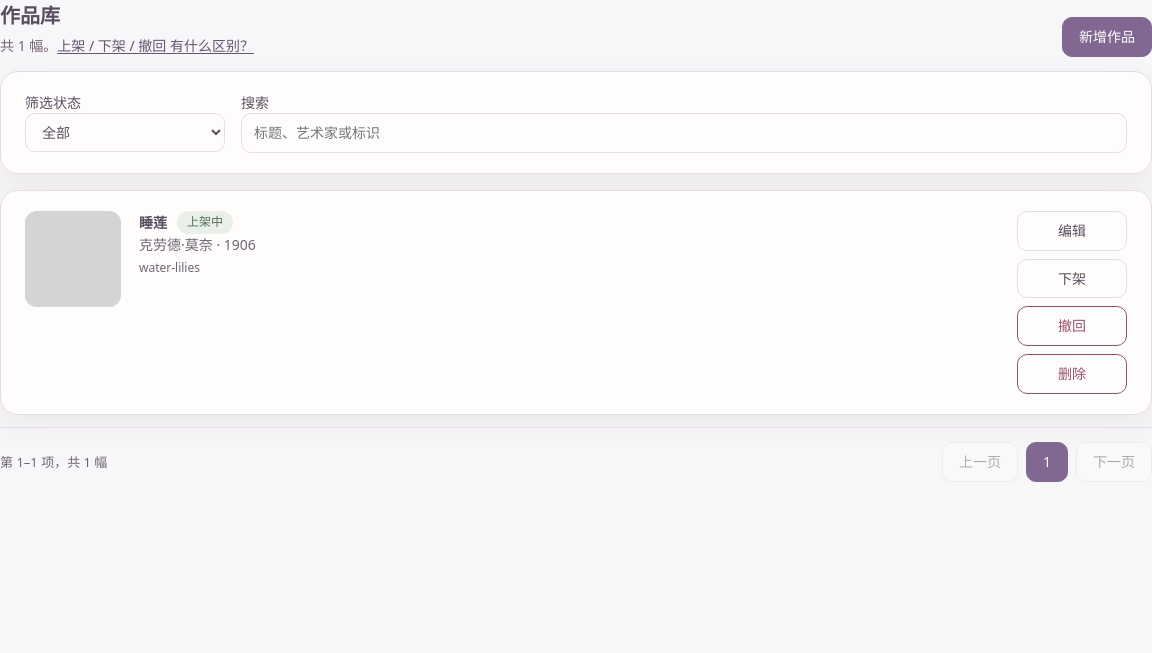
作品库 › 点新增打开表单
Click the button "新增作品".
click(1107, 37)  # box [1062, 17, 1151, 57]
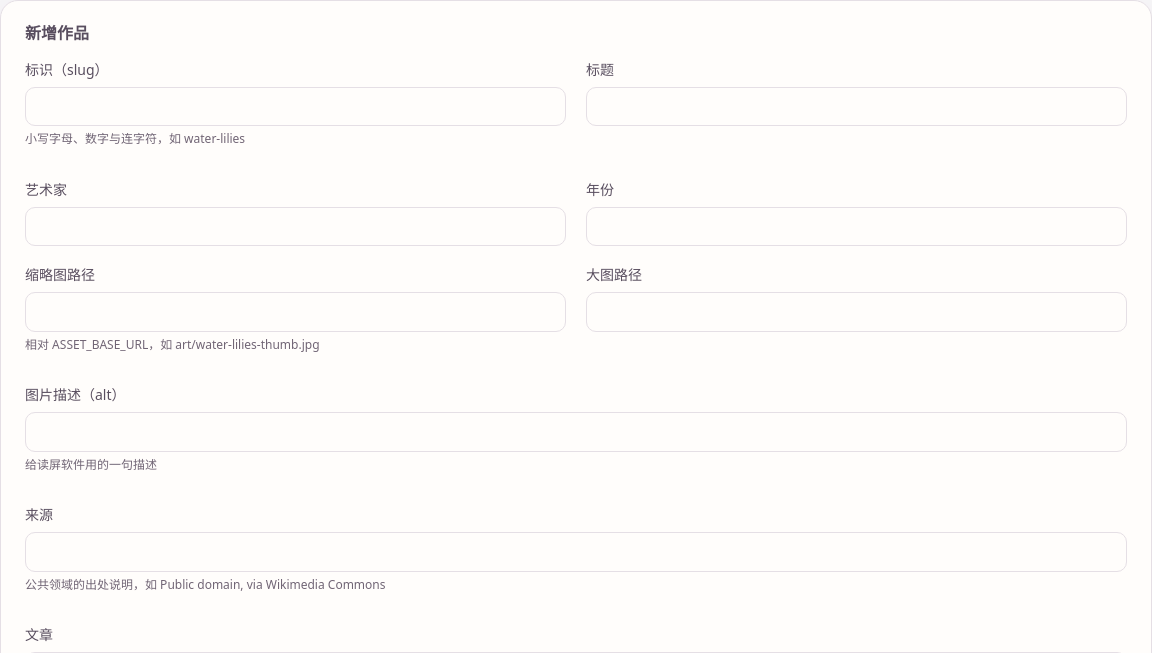
Expected: the field labelled "标识（slug）" is shown, [25, 87, 566, 126]
